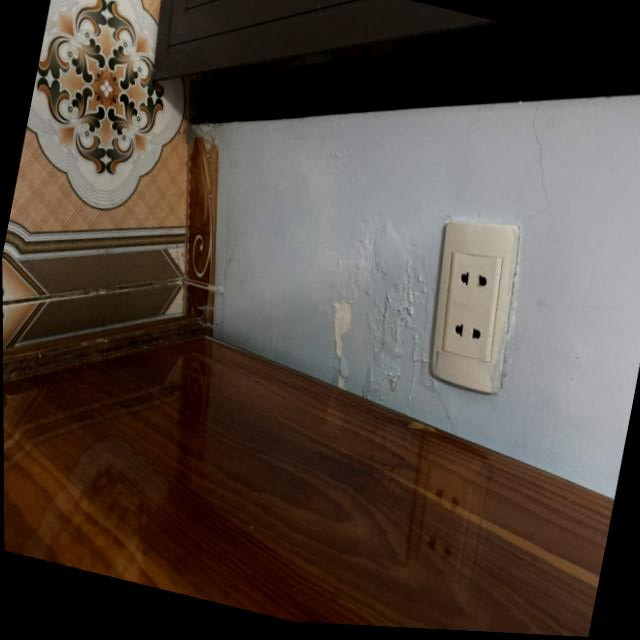outlet: (415, 207, 533, 399)
